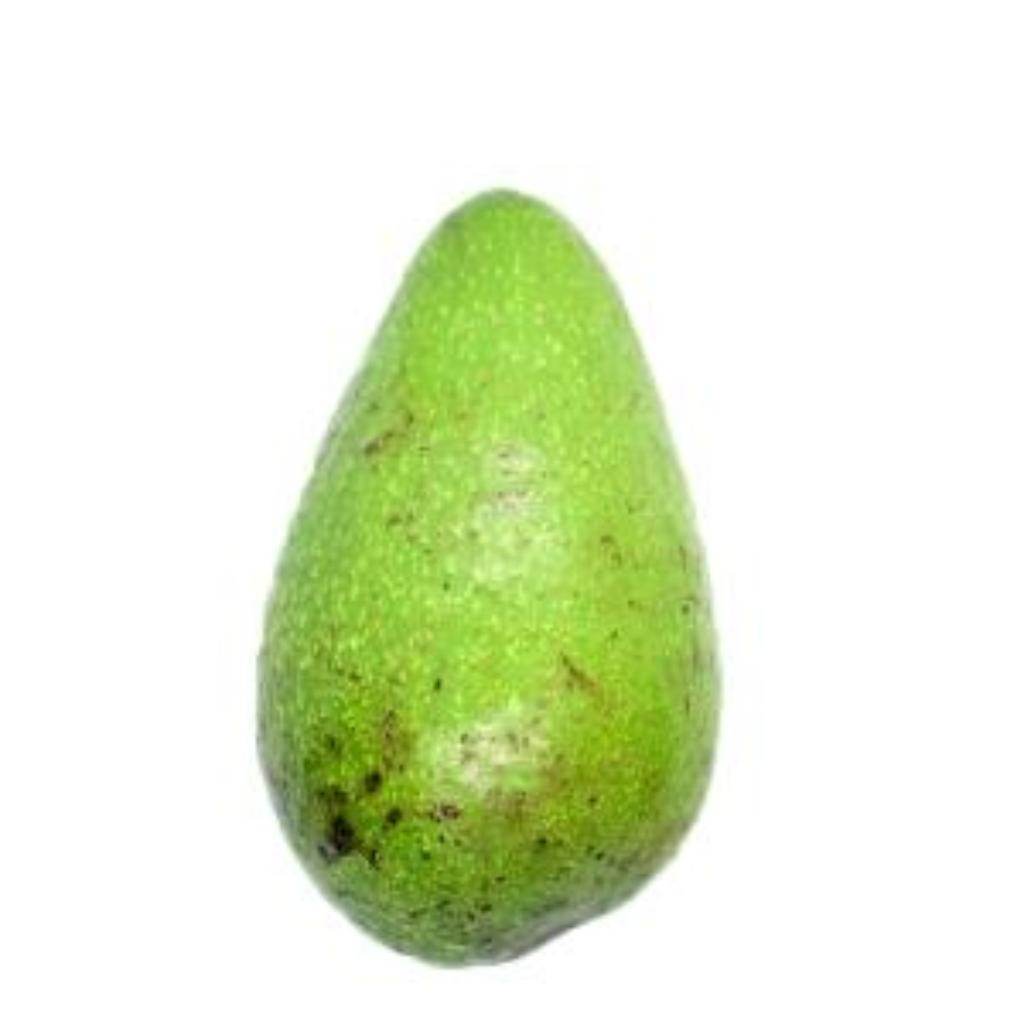cercospora: (249, 177, 727, 972)
